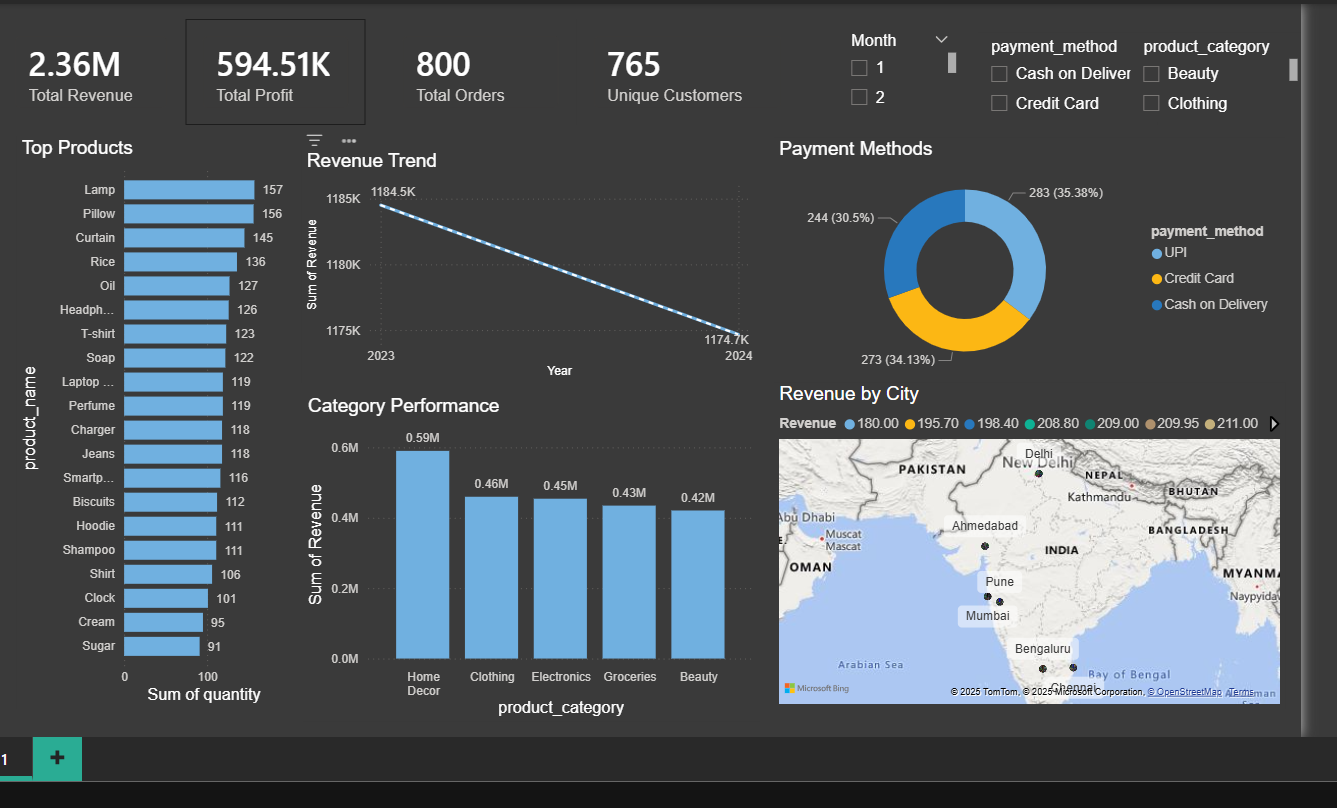

The page's visual inventory and layout, read from the dashboard file:
{"tool":"powerbi","page":{"name":"Page 1","canvas":[1280,720],"ordinal":0},"visuals":[{"type":"cardVisual","fields":{"Data":["Sum(ecommerce_sales (2).Revenue)"]},"box":[0,15.1,183.9,104.3],"z":0},{"type":"cardVisual","fields":{"Data":["Sum(ecommerce_sales (2).profit)"]},"box":[183.9,15.1,177,104.3],"z":1000},{"type":"cardVisual","fields":{"Data":["CountNonNull(ecommerce_sales (2).order_id)"]},"box":[380.1,15.1,188,104.3],"z":2000},{"type":"cardVisual","fields":{"Data":["Count(ecommerce_sales (2).customer_id)"]},"box":[568.1,14.7,218.4,104.3],"z":3000},{"type":"barChart","title":"Top Products","fields":{"Category":["ecommerce_sales.product_name"],"Y":["Sum(ecommerce_sales.quantity)"]},"box":[17.8,130.4,278.6,561.2],"z":4000},{"type":"donutChart","title":"Payment Methods","fields":{"Category":["ecommerce_sales.payment_method"],"Y":["CountNonNull(ecommerce_sales.order_id)"]},"box":[761.6,131.7,500.9,240.1],"z":5000},{"type":"lineChart","title":"Revenue Trend","fields":{"Y":["Sum(ecommerce_sales.Revenue)"],"Category":["ecommerce_sales.order_date.Variation.Date Hierarchy.Year","ecommerce_sales.order_date.Variation.Date Hierarchy.Quarter","ecommerce_sales.order_date.Variation.Date Hierarchy.Month","ecommerce_sales.order_date.Variation.Date Hierarchy.Day"]},"box":[298.2,143.6,447.9,228.2],"z":6000},{"type":"map","title":"Revenue by City","fields":{"Category":["ecommerce_sales.city"],"Series":["ecommerce_sales.Revenue"]},"box":[761.6,371.9,500.9,319.7],"z":7000},{"type":"columnChart","title":"Category Performance","fields":{"Category":["ecommerce_sales.product_category"],"Y":["Sum(ecommerce_sales.Revenue)"]},"box":[299.4,384.1,447.9,320.2],"z":8000},{"type":"slicer","fields":{"Values":["ecommerce_sales.payment_method"]},"box":[961.9,28.8,175.6,90.6],"z":9000},{"type":"slicer","fields":{"Values":["ecommerce_sales.Month"]},"box":[824.7,22,120.8,90.6],"z":10000},{"type":"slicer","fields":{"Values":["ecommerce_sales.product_category"]},"box":[1111.5,28.8,168.8,87.8],"z":11000}]}

Visuals, with their boxes on the page's 1280x720 design canvas (x1, y1, x2, y2). These are canvas units, not pixel positions in the 1337x808 screenshot, which may show the page scaled, cropped or inside an application window:
cardVisual - Sum(ecommerce_sales (2).Revenue): (x1=0, y1=15, x2=184, y2=119)
cardVisual - Sum(ecommerce_sales (2).profit): (x1=184, y1=15, x2=361, y2=119)
cardVisual - CountNonNull(ecommerce_sales (2).order_id): (x1=380, y1=15, x2=568, y2=119)
cardVisual - Count(ecommerce_sales (2).customer_id): (x1=568, y1=15, x2=786, y2=119)
"Top Products" barChart: (x1=18, y1=130, x2=296, y2=692)
"Payment Methods" donutChart: (x1=762, y1=132, x2=1262, y2=372)
"Revenue Trend" lineChart: (x1=298, y1=144, x2=746, y2=372)
"Revenue by City" map: (x1=762, y1=372, x2=1262, y2=692)
"Category Performance" columnChart: (x1=299, y1=384, x2=747, y2=704)
slicer - ecommerce_sales.payment_method: (x1=962, y1=29, x2=1138, y2=119)
slicer - ecommerce_sales.Month: (x1=825, y1=22, x2=946, y2=113)
slicer - ecommerce_sales.product_category: (x1=1112, y1=29, x2=1280, y2=117)
